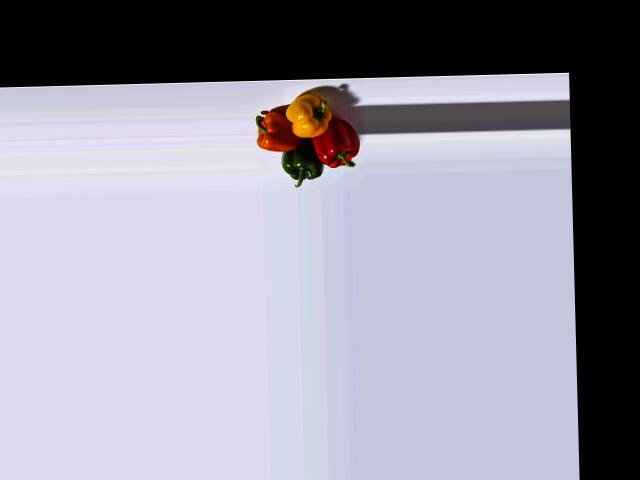bell_pepper: (312, 117, 362, 173)
